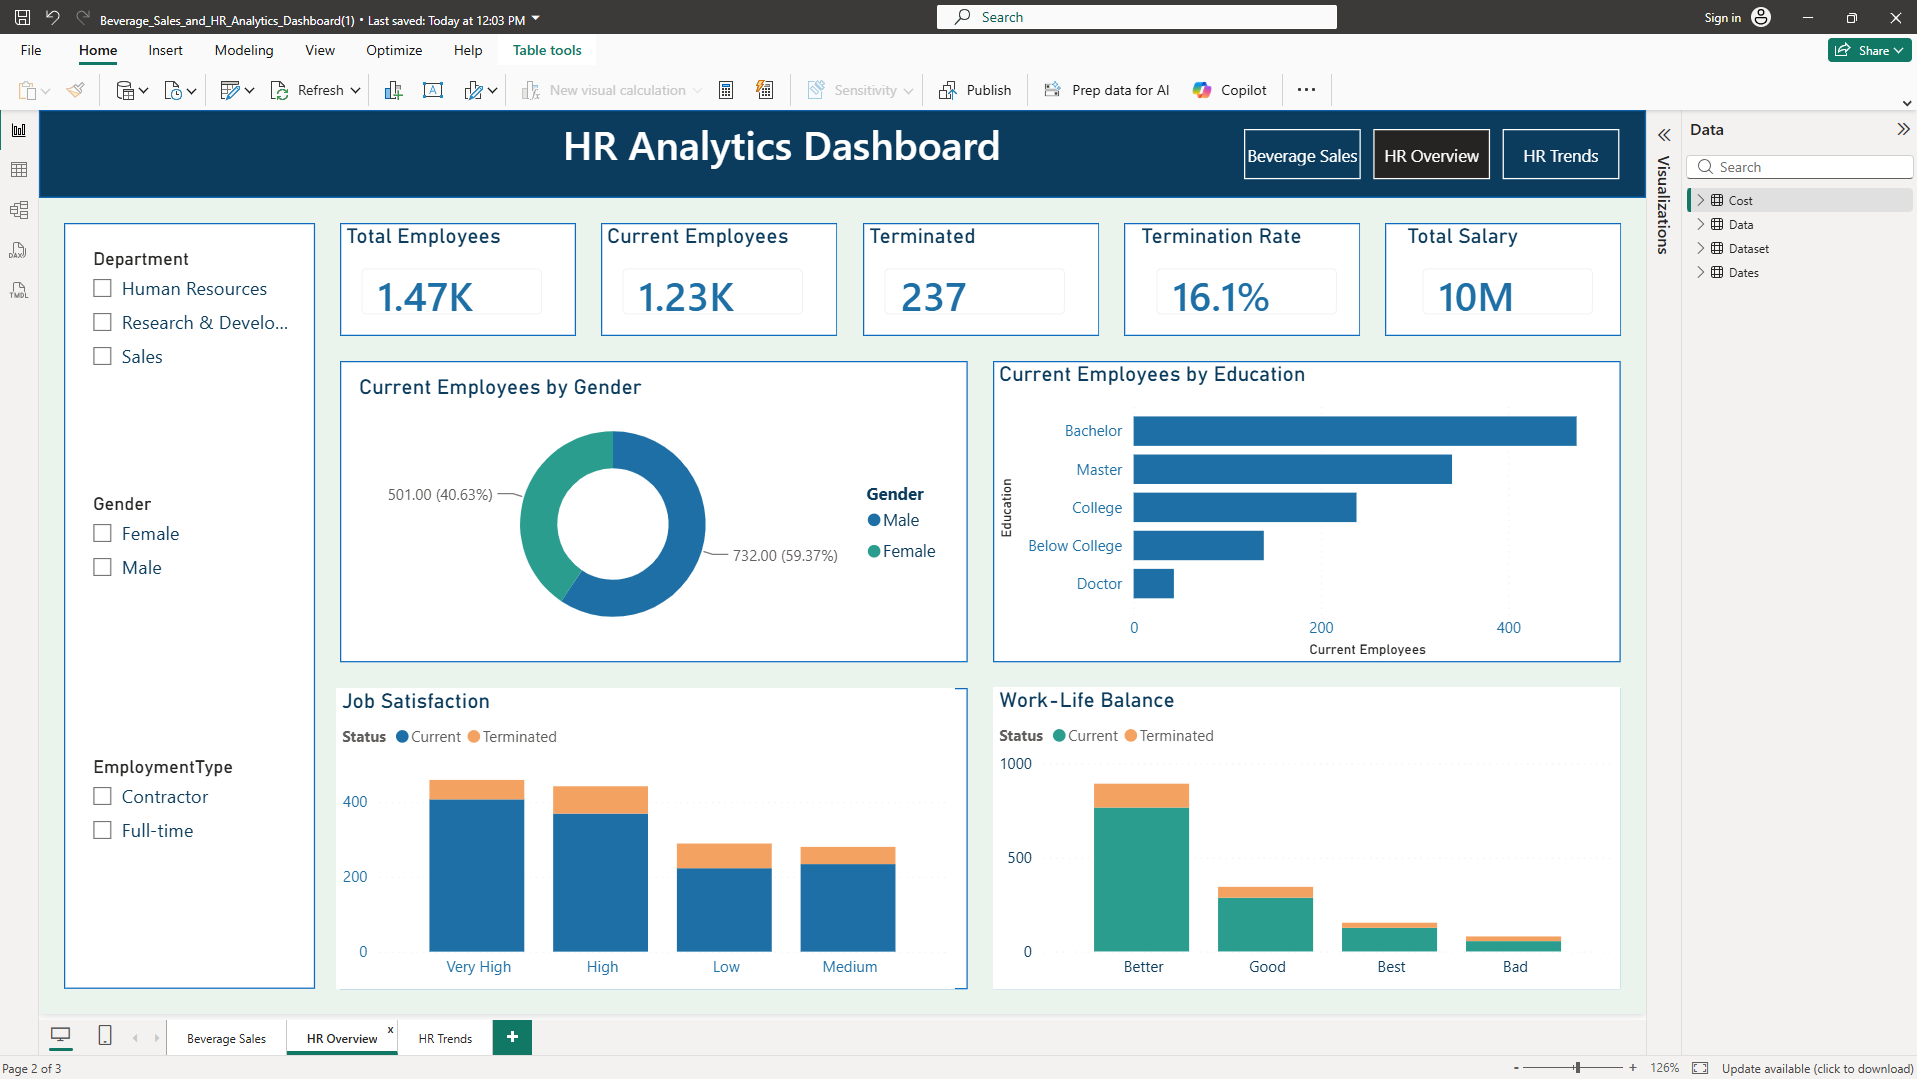

The dashboard page shown, as its layout file describes it:
{"tool":"powerbi","page":{"name":"HR Overview","canvas":[1280,720],"ordinal":1},"visuals":[{"type":"shape","box":[0,0,1280,70],"z":0},{"type":"shape","box":[20,90,200,610],"z":1000},{"type":"shape","box":[240,90,188,90],"z":2000},{"type":"shape","box":[448,90,188.3,90],"z":3000},{"type":"shape","box":[656,90,188.3,90],"z":4000},{"type":"shape","box":[864,90,188.3,90],"z":5000},{"type":"shape","box":[1072,90,188.3,90],"z":6000},{"type":"shape","box":[240,200,500,240],"z":7000},{"type":"shape","box":[240,460,500,240],"z":8000},{"type":"shape","box":[760,200,500,240],"z":9000},{"type":"shape","box":[760,460,500,240],"z":10000},{"type":"textbox","box":[249.4,0,684.9,69.8],"z":11000},{"type":"cardVisual","title":"Total Employees","fields":{"Data":["Dataset.Total Employees"]},"box":[240,90,178.9,90],"z":12000},{"type":"cardVisual","title":"Current Employees","fields":{"Data":["Cost.Current Employees"]},"box":[447.8,90,178.9,90],"z":13000},{"type":"cardVisual","title":"Terminated","fields":{"Data":["Cost.Terminated"]},"box":[656.7,90,178.3,90],"z":14000},{"type":"cardVisual","title":"Termination Rate","fields":{"Data":["Cost.Termination Rate"]},"box":[873.3,90,178.3,90],"z":15000},{"type":"cardVisual","title":"Total Salary\t","fields":{"Data":["Cost.Total Salary"]},"box":[1085,90,170,90],"z":16000},{"type":"donutChart","fields":{"Category":["Dataset.Gender"],"Y":["Cost.Current Employees"]},"box":[250,210,480,220],"z":17000},{"type":"clusteredBarChart","fields":{"Category":["Dataset.Education"],"Y":["Cost.Current Employees"]},"box":[760,200,500,240],"z":18000},{"type":"columnChart","title":" Job Satisfaction","fields":{"Category":["Dataset.JobSatisfaction"],"Y":["Dataset.Total Employees"],"Series":["Dataset.Status"]},"box":[236.7,460,493.3,240],"z":19000},{"type":"columnChart","title":" Work-Life Balance ","fields":{"Category":["Dataset.WorkLifeBalance"],"Y":["Dataset.Total Employees"],"Series":["Dataset.Status"]},"box":[759.9,459.7,500.3,240.6],"z":20000},{"type":"slicer","fields":{"Values":["Dataset.Department"]},"box":[30,105,180,190],"z":21000},{"type":"slicer","fields":{"Values":["Dataset.Gender"]},"box":[30,300,180,190],"z":22000},{"type":"slicer","fields":{"Values":["Dataset.EmploymentType"]},"box":[30,510,180,190],"z":23000},{"type":"pageNavigator","box":[960,15,300,40],"z":23001}]}

Visuals, with their boxes on the page's 1280x720 design canvas (x1, y1, x2, y2). These are canvas units, not pixel positions in the 1917x1079 screenshot, which may show the page scaled, cropped or inside an application window:
shape: [x1=0, y1=0, x2=1280, y2=70]
shape: [x1=20, y1=90, x2=220, y2=700]
shape: [x1=240, y1=90, x2=428, y2=180]
shape: [x1=448, y1=90, x2=636, y2=180]
shape: [x1=656, y1=90, x2=844, y2=180]
shape: [x1=864, y1=90, x2=1052, y2=180]
shape: [x1=1072, y1=90, x2=1260, y2=180]
shape: [x1=240, y1=200, x2=740, y2=440]
shape: [x1=240, y1=460, x2=740, y2=700]
shape: [x1=760, y1=200, x2=1260, y2=440]
shape: [x1=760, y1=460, x2=1260, y2=700]
textbox: [x1=249, y1=0, x2=934, y2=70]
"Total Employees" cardVisual: [x1=240, y1=90, x2=419, y2=180]
"Current Employees" cardVisual: [x1=448, y1=90, x2=627, y2=180]
"Terminated" cardVisual: [x1=657, y1=90, x2=835, y2=180]
"Termination Rate" cardVisual: [x1=873, y1=90, x2=1052, y2=180]
"Total Salary	" cardVisual: [x1=1085, y1=90, x2=1255, y2=180]
donutChart - Dataset.Gender x Cost.Current Employees: [x1=250, y1=210, x2=730, y2=430]
clusteredBarChart - Dataset.Education x Cost.Current Employees: [x1=760, y1=200, x2=1260, y2=440]
" Job Satisfaction" columnChart: [x1=237, y1=460, x2=730, y2=700]
" Work-Life Balance " columnChart: [x1=760, y1=460, x2=1260, y2=700]
slicer - Dataset.Department: [x1=30, y1=105, x2=210, y2=295]
slicer - Dataset.Gender: [x1=30, y1=300, x2=210, y2=490]
slicer - Dataset.EmploymentType: [x1=30, y1=510, x2=210, y2=700]
pageNavigator: [x1=960, y1=15, x2=1260, y2=55]
